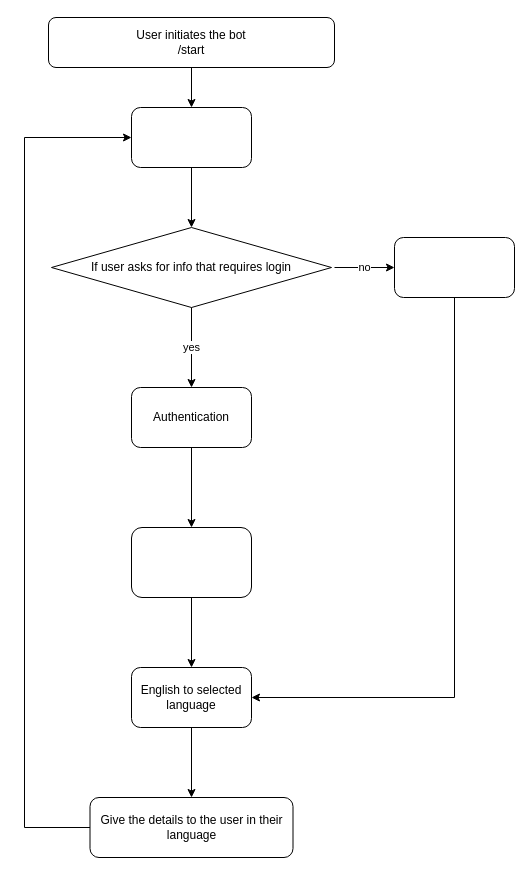
Some shapes in this 532 by 875 pixel diagram are drawn without their labels. The centre of each missing label's shape, as x and y in pixels:
Give private details like account balance and graphs: point (191, 562)
Give public information like bank info and interest rates: point (454, 267)
Language to English using LASER Encoder: point (191, 137)
